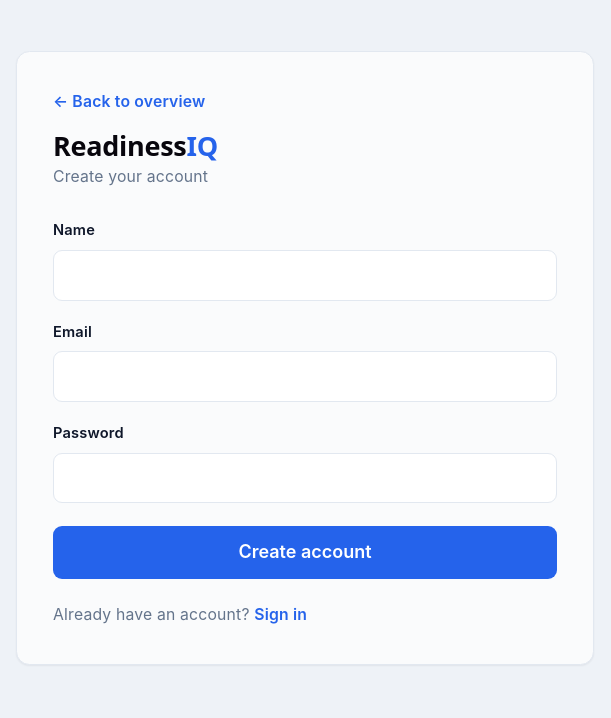
Scenario: RegisterPage › shows an error when registration fails
Type "Jane Doe" into the field labelled "Name" at (305, 275), box x1=53 y1=250 x2=557 y2=301
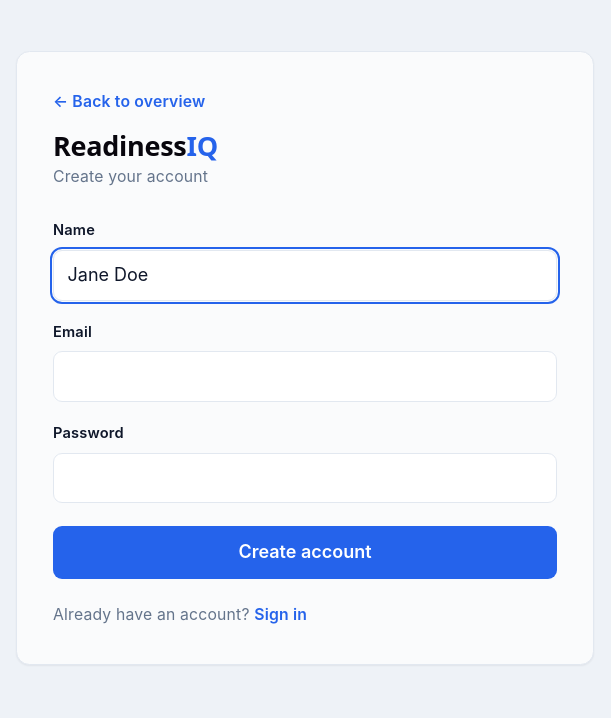
Type "jane@example.com" into the field labelled "Email" at (305, 377), box x1=53 y1=351 x2=557 y2=402
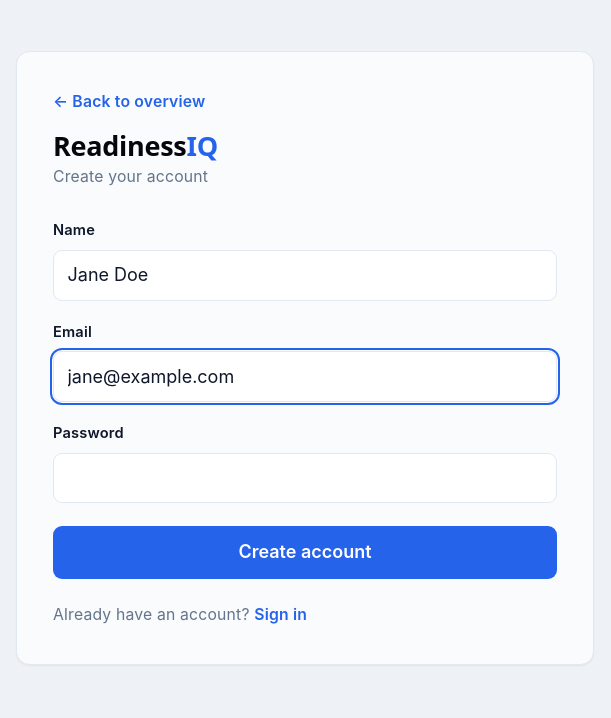
Type "secret123" into the password field labelled "Password" at (305, 478), box x1=53 y1=453 x2=557 y2=504
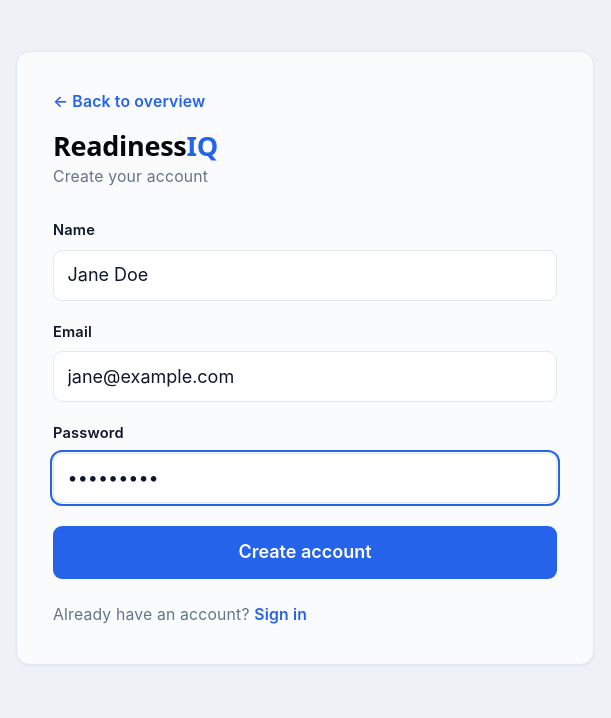
Click the button "Create account" at (305, 553), box x1=53 y1=526 x2=557 y2=579
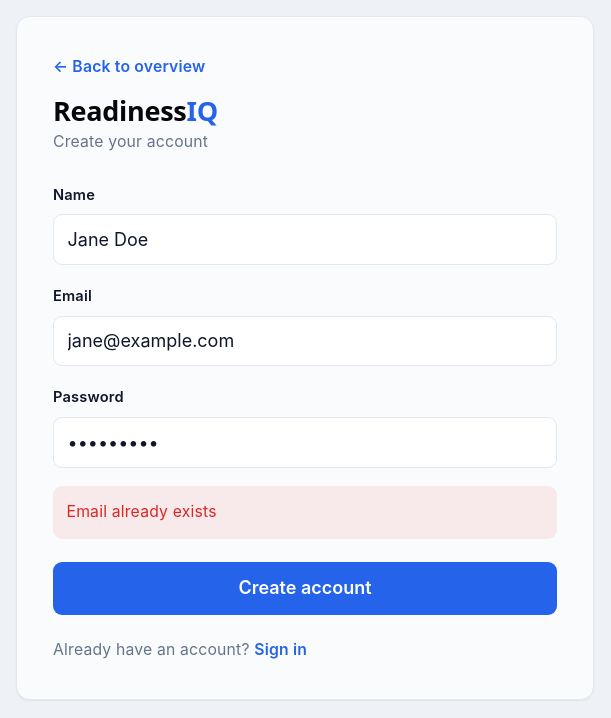
Result: the message reads "Email already exists" at x1=66 y1=502 x2=217 y2=521
